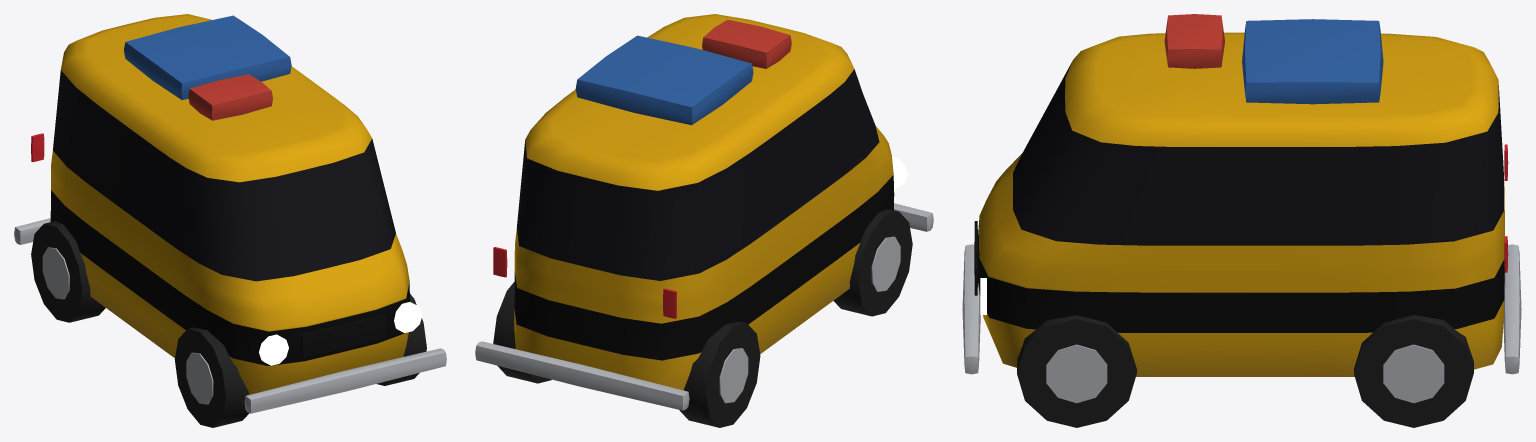
The model's file is env_danfo_parked.glb.
The picture shows the model from 3 angles, left to right: view 1: azimuth 30°, elevation 25°; view 2: azimuth 150°, elevation 25°; view 3: azimuth 270°, elevation 25°; orthographic projection. The views are drawn at different scales.
Parts seen in each view (by area): view 1: env_danfo_parked_body; view 2: env_danfo_parked_body; view 3: env_danfo_parked_body.
Part boxes in pixels (box(x1,y1,x2,y2)): env_danfo_parked_body: box(14, 14, 446, 427); env_danfo_parked_body: box(475, 14, 933, 427); env_danfo_parked_body: box(962, 14, 1521, 427).
Size of the model in its own units: 0.7752 by 1.03 by 1.58.
